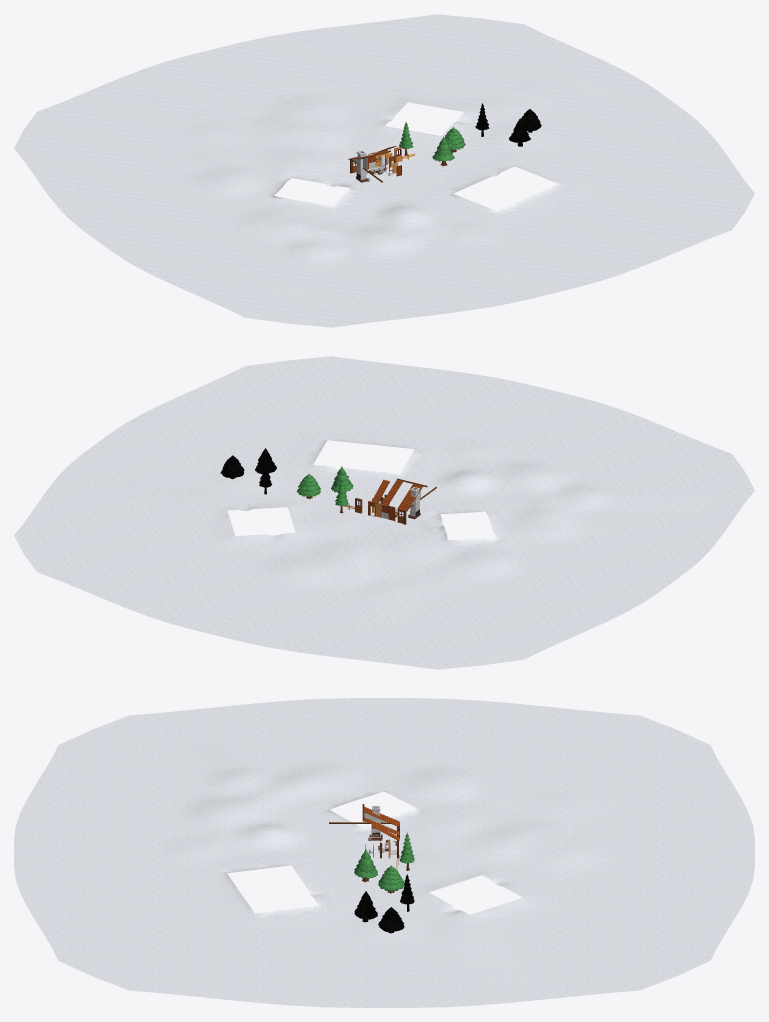
File: Build_Winter.fbx
The picture shows the model from 3 angles, top to bottom: view 1: azimuth 30°, elevation 25°; view 2: azimuth 150°, elevation 25°; view 3: azimuth 270°, elevation 25°; orthographic projection. The views are drawn at different scales.
Parts seen in each view (by area): view 1: Winter_Place; view 2: Winter_Place; view 3: Winter_Place.
Part boxes in pixels (box(x1,y1,x2,y2)): Winter_Place: box(14, 14, 754, 327); Winter_Place: box(14, 356, 754, 669); Winter_Place: box(14, 698, 754, 1007).
Bounding box in the file's own units: 175 × 10.06 × 177.
